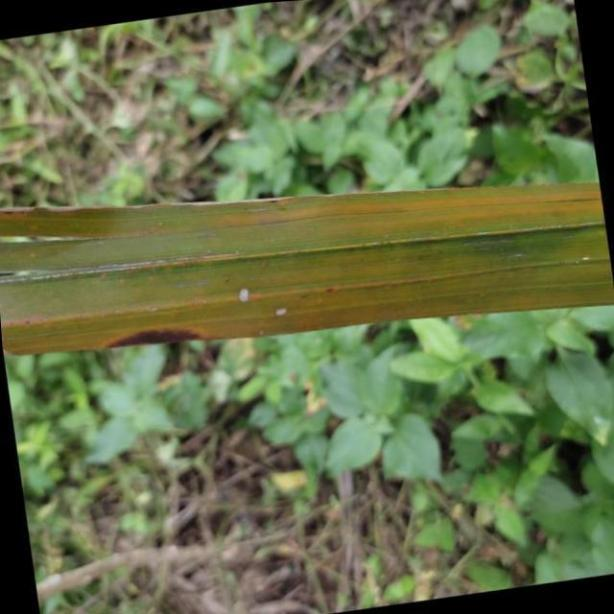Megnesium: (0, 176, 614, 356)
